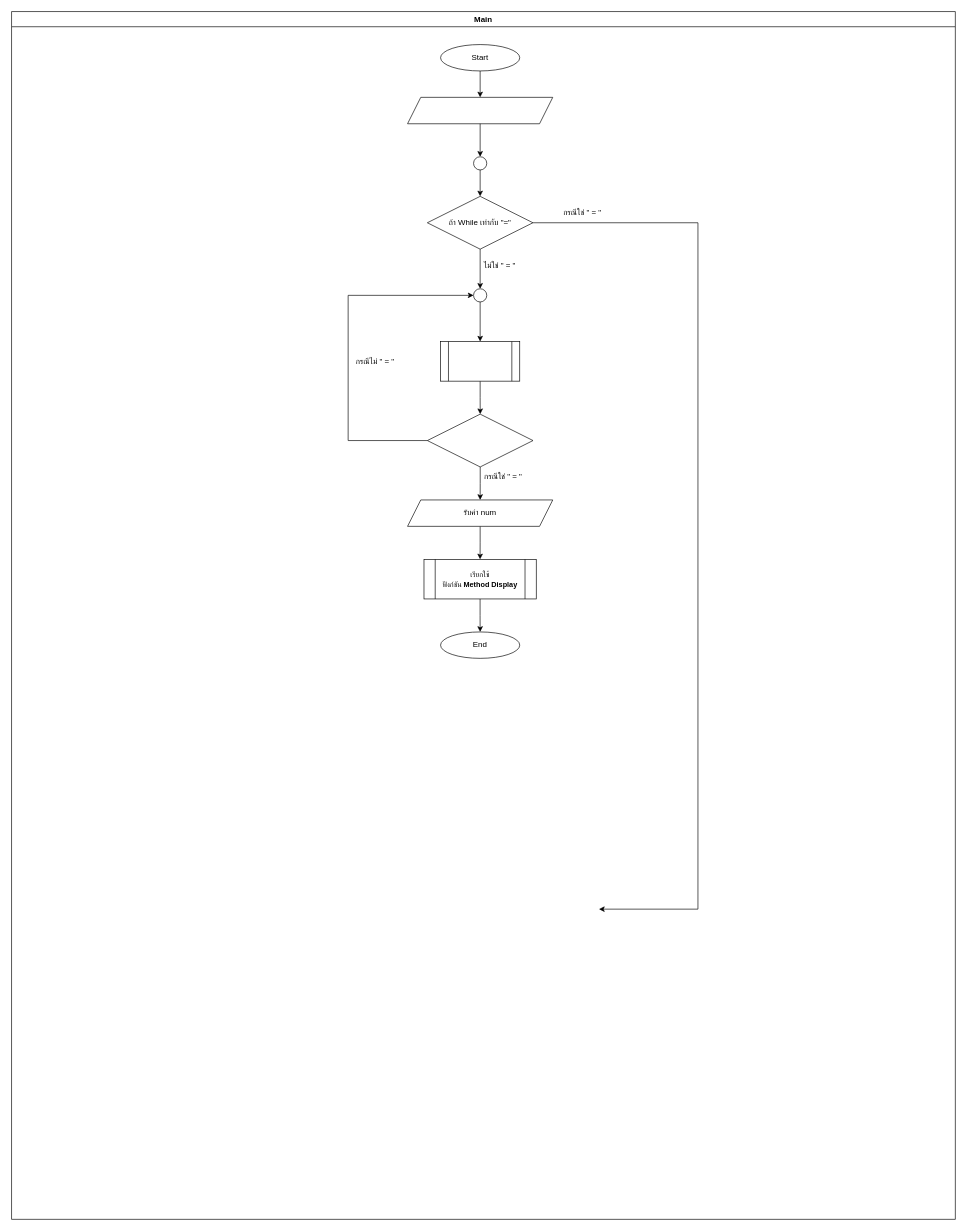
Some shapes in this 967 by 1231 pixel diagram are drawn without their labels. The centre of each missing label's shape, as x and y in pixels:
ค่า check เท่ากับ '' = ": pixel 480 440
รับค่า Init num: pixel 480 110
รับค่า Operator: pixel 480 361
